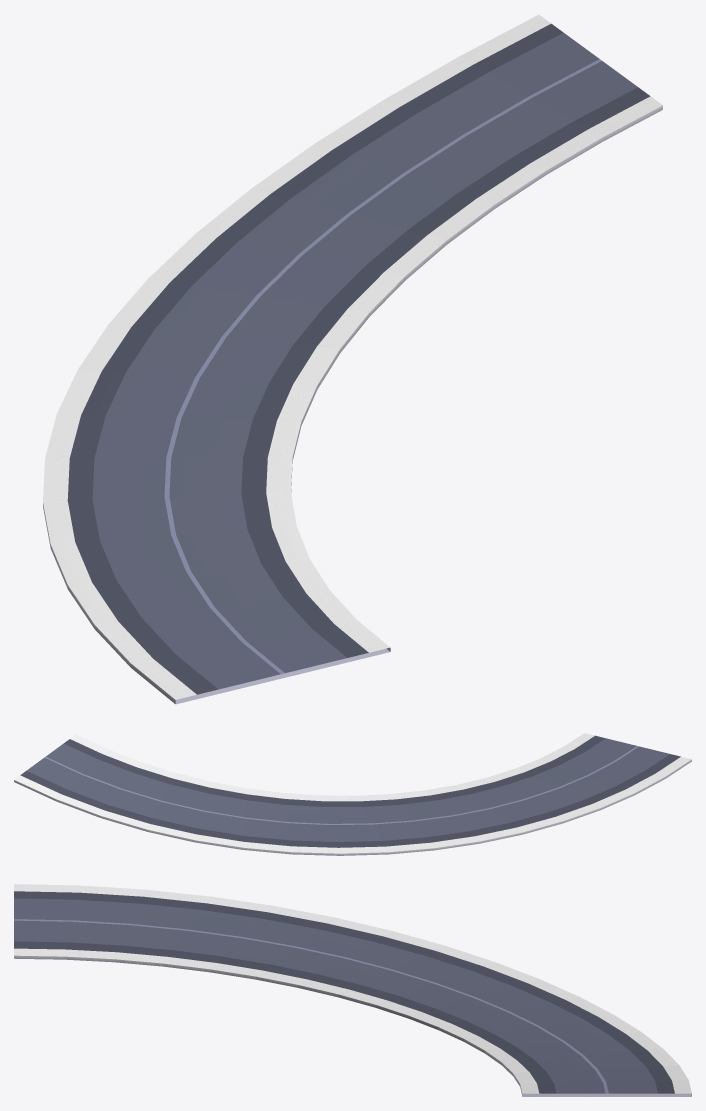
Rendered from road-Turn-Flat-BiSlopeUp-Up2-Right-Size4.glb.
3 renders of one model, top to bottom at view 1: azimuth 30°, elevation 25°; view 2: azimuth 150°, elevation 25°; view 3: azimuth 270°, elevation 25°, orthographic. The views are drawn at different scales.
Visible parts, largest first — view 1: road-Turn-Flat-BiSlopeUp-Up2-Right-Size4; view 2: road-Turn-Flat-BiSlopeUp-Up2-Right-Size4; view 3: road-Turn-Flat-BiSlopeUp-Up2-Right-Size4.
Boxes of the visible parts, x1=… form: road-Turn-Flat-BiSlopeUp-Up2-Right-Size4: x1=43, y1=14, x2=662, y2=704; road-Turn-Flat-BiSlopeUp-Up2-Right-Size4: x1=14, y1=733, x2=691, y2=855; road-Turn-Flat-BiSlopeUp-Up2-Right-Size4: x1=14, y1=884, x2=691, y2=1096.
Size of the model in its own units: 4 by 0.5212 by 4.
1 material, 1 textured.
